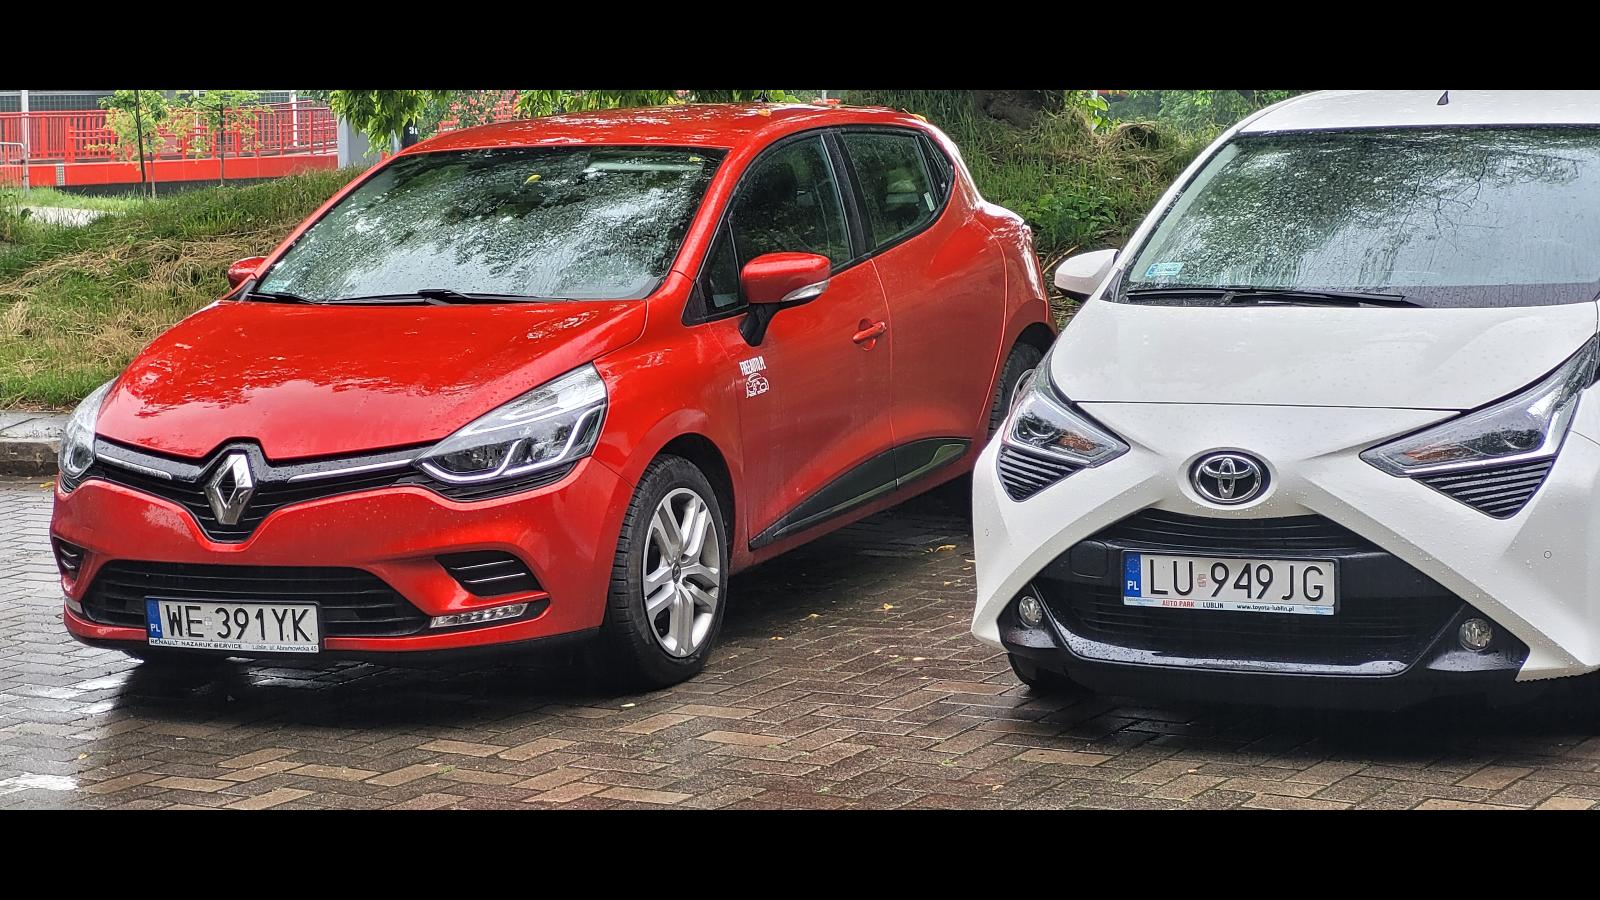plates: (1122, 550, 1340, 616), (144, 597, 322, 653)
